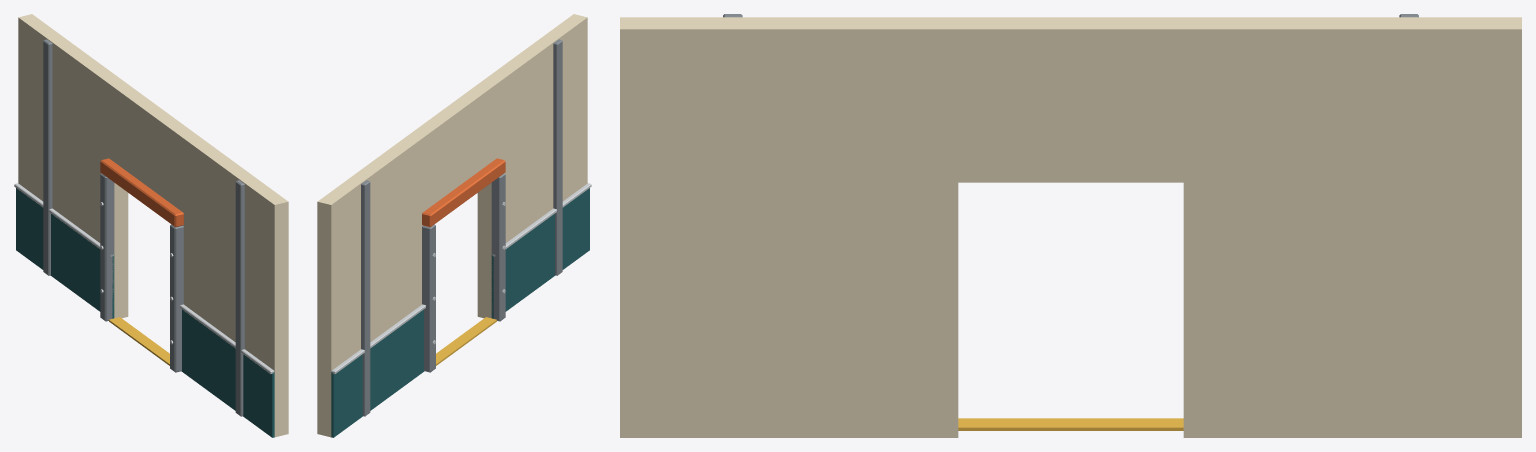
The model's file is Kit_WallSideDoor.fbx.
3 views of the same model, side by side, from view 1: azimuth 30°, elevation 25°; view 2: azimuth 150°, elevation 25°; view 3: azimuth 270°, elevation 25° (orthographic). The views are drawn at different scales.
Parts seen in each view (by area): view 1: SideWall, Decor; view 2: SideWall, Decor; view 3: SideWall, Decor.
Boxes of the visible parts, x1,y1,x2,y2 form: SideWall: (18, 14, 288, 437); Decor: (14, 39, 274, 437); SideWall: (317, 14, 587, 437); Decor: (331, 39, 591, 437); SideWall: (620, 17, 1521, 437); Decor: (723, 14, 1418, 430).
Size of the model in its own units: 1.74 by 16 by 32.
